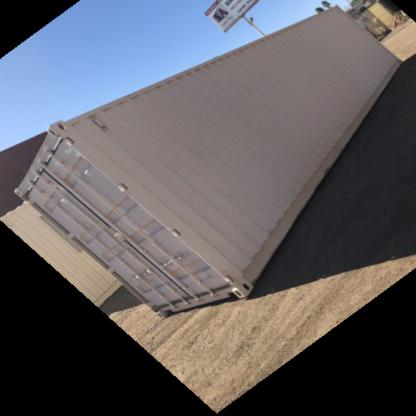Damage: (314, 118, 340, 160), (192, 272, 216, 290)
